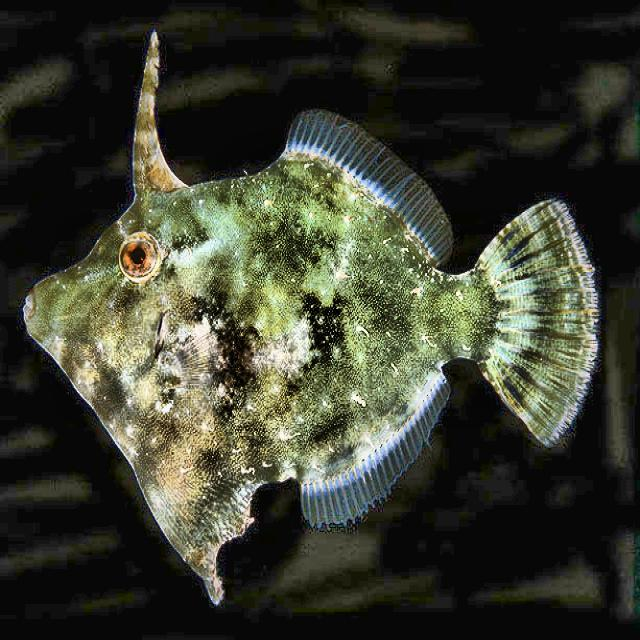fish: (25, 31, 592, 600)
